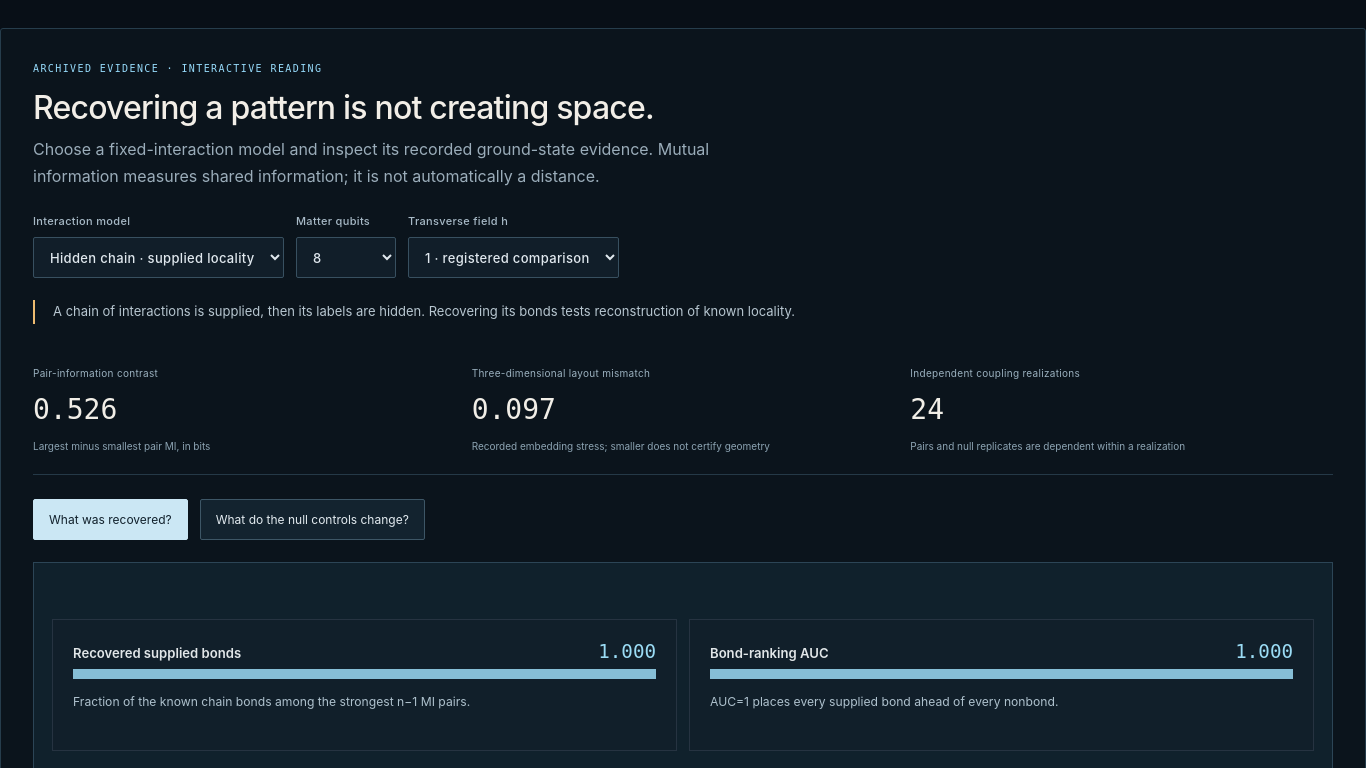
Test: archived quantum evidence interactions › loads secondary size/field evidence and labels the changed scope
Expected: the element named "Recovered supplied bonds" is shown, [73,664,656,684]
Select "10" in the dropdown named "Quantum system size" at (346, 258), box [296,237,396,278]
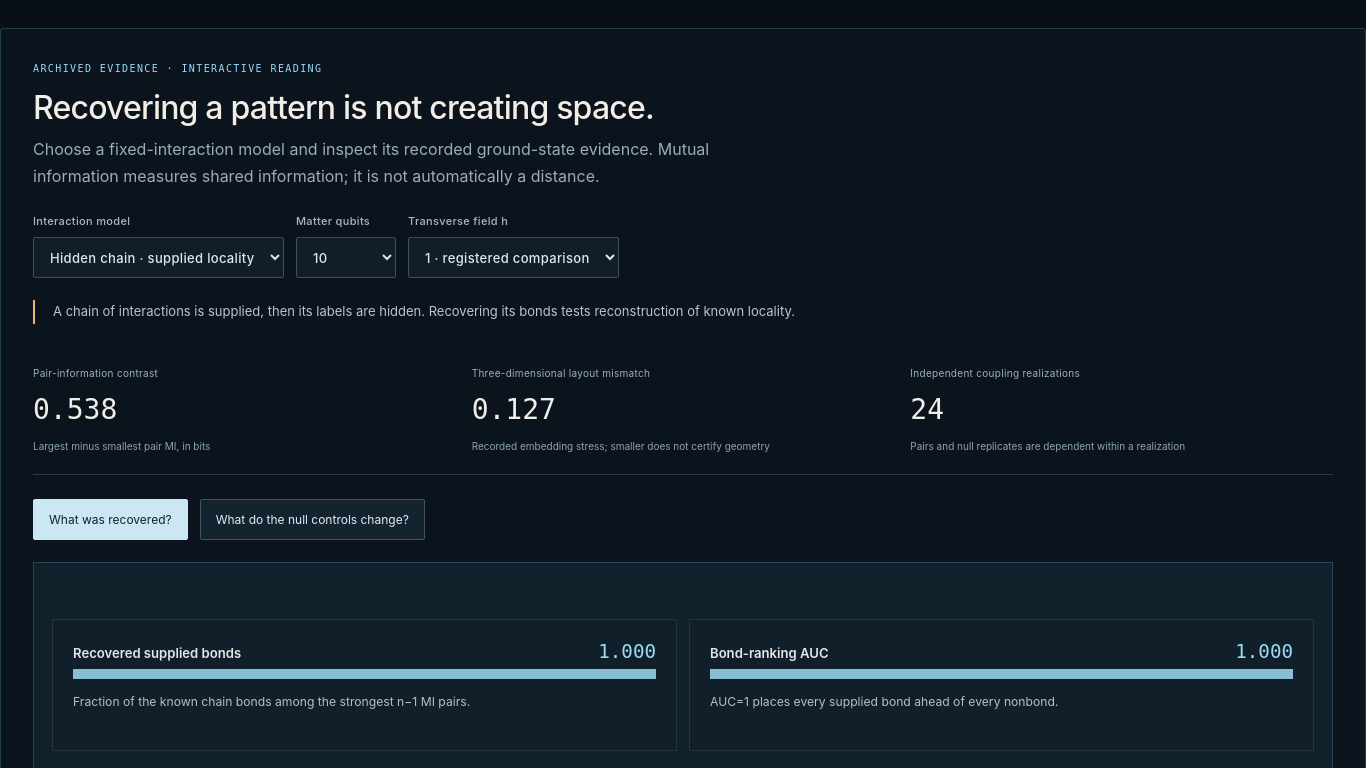
Select "0.5 · secondary check" in the dropdown named "Quantum transverse field" at (514, 258), box [408,237,619,278]
(page scrolled)
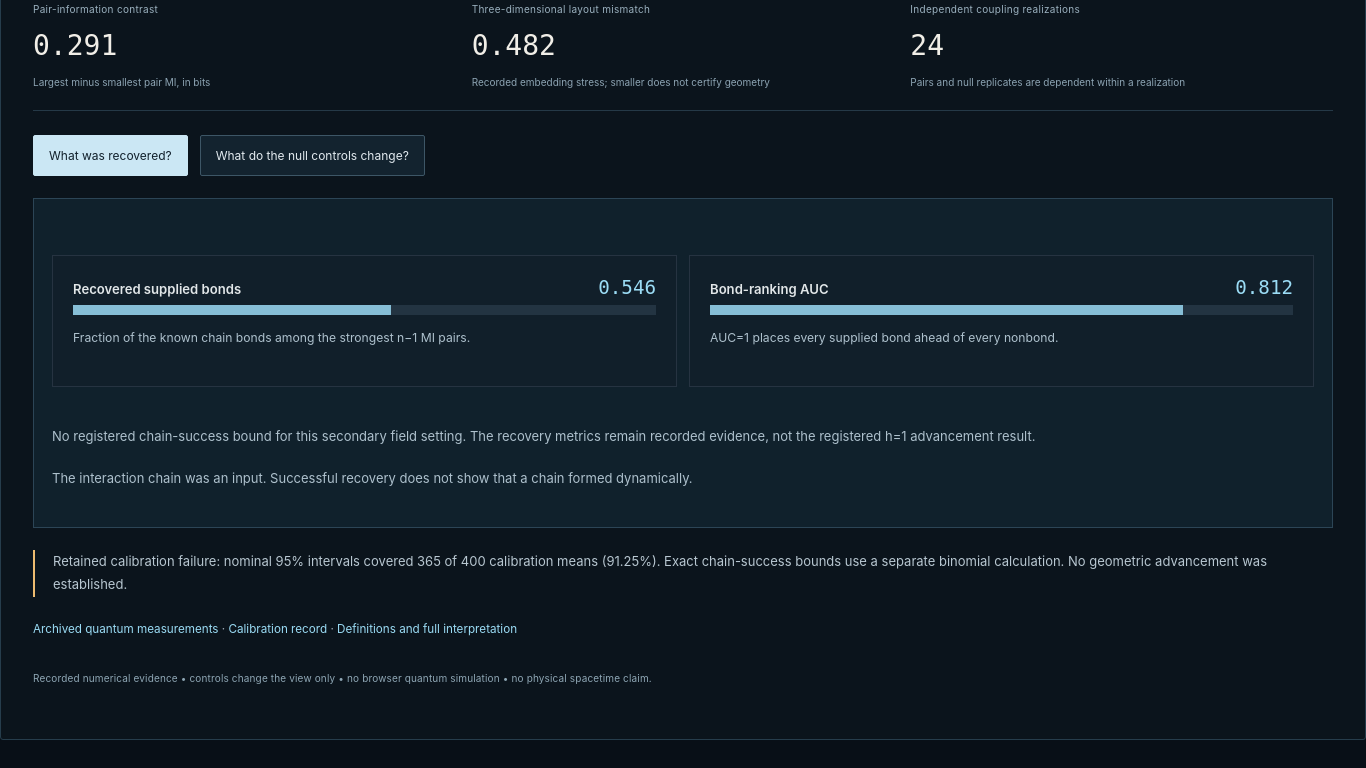
Now the text "No registered chain-success bound for this secondary field setting" is shown, box [52,428,1036,444]
